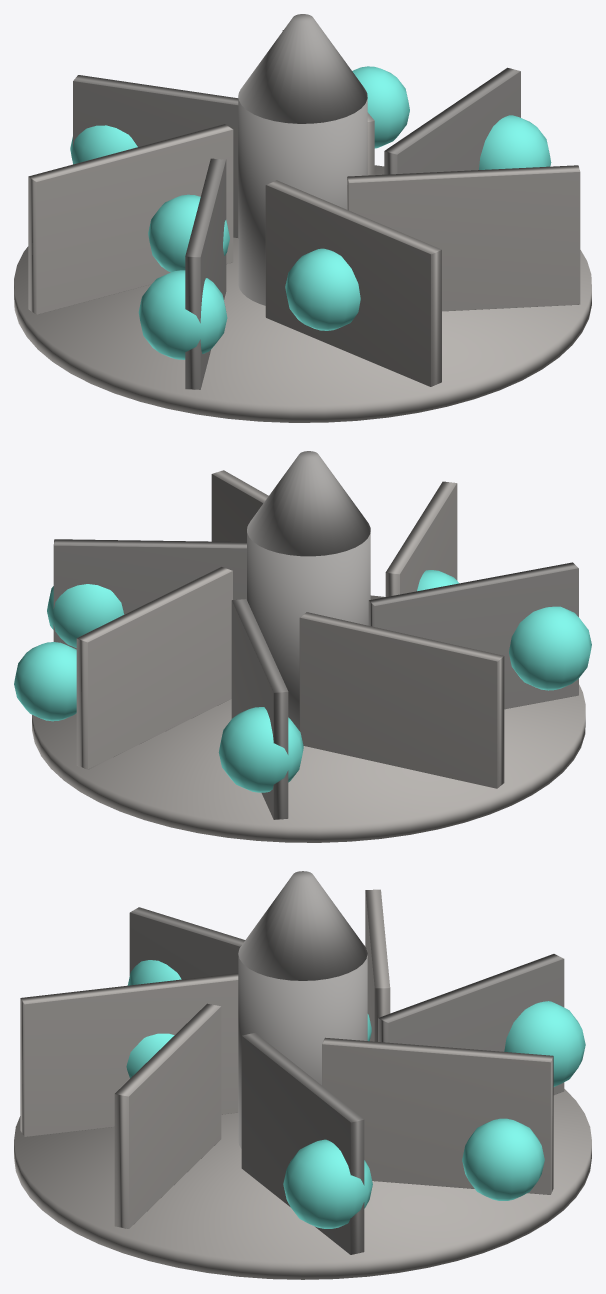
File: impeller_damaged.glb
The picture shows the model from 3 angles, top to bottom: view 1: azimuth 30°, elevation 25°; view 2: azimuth 150°, elevation 25°; view 3: azimuth 270°, elevation 25°; orthographic projection. The views are drawn at different scales.
Parts seen in each view (by area): view 1: part_shroud, part_blade_6, part_blade_3, part_blade_5, Cylinder, Cone, part_blade_2, part_blade_0, part_blade_4, dmg_3, bait_3, dmg_1 (+3 smaller); view 2: part_shroud, part_blade_3, part_blade_1, part_blade_4, Cylinder, part_blade_0, Cone, part_blade_2, dmg_3, dmg_2, part_blade_5, bait_1 (+3 smaller); view 3: part_shroud, part_blade_1, part_blade_5, part_blade_6, part_blade_0, Cylinder, part_blade_2, Cone, part_blade_4, dmg_1, bait_1, dmg_2 (+3 smaller).
Part boxes in pixels (x1,y1,x2,y2): part_shroud: [14, 165, 591, 422]; part_blade_6: [347, 165, 580, 311]; part_blade_3: [28, 124, 233, 314]; part_blade_5: [265, 180, 441, 386]; Cylinder: [238, 91, 367, 305]; Cone: [238, 14, 367, 123]; part_blade_2: [73, 75, 238, 237]; part_blade_0: [384, 67, 520, 174]; part_blade_4: [185, 158, 226, 389]; dmg_3: [138, 270, 227, 359]; bait_3: [285, 248, 360, 330]; dmg_1: [479, 115, 551, 169]; part_shroud: [32, 595, 585, 842]; part_blade_3: [299, 612, 504, 788]; part_blade_1: [76, 566, 232, 769]; part_blade_4: [368, 562, 578, 709]; Cylinder: [247, 524, 370, 730]; part_blade_0: [53, 539, 246, 649]; Cone: [247, 451, 370, 556]; part_blade_2: [231, 599, 288, 819]; dmg_3: [509, 606, 591, 690]; dmg_2: [218, 707, 303, 792]; part_blade_5: [385, 481, 457, 596]; bait_1: [14, 642, 76, 721]; part_shroud: [14, 1089, 591, 1279]; part_blade_1: [322, 1037, 553, 1194]; part_blade_5: [20, 973, 238, 1136]; part_blade_6: [114, 1003, 221, 1228]; part_blade_0: [241, 1032, 364, 1254]; Cylinder: [238, 945, 367, 1148]; part_blade_2: [378, 954, 564, 1094]; Cone: [238, 871, 367, 980]; part_blade_4: [129, 907, 245, 979]; dmg_1: [283, 1139, 372, 1228]; bait_1: [462, 1118, 544, 1200]; dmg_2: [504, 1001, 585, 1086].
Bounding box in the file's own units: 0.6752 × 0.361 × 0.67.
